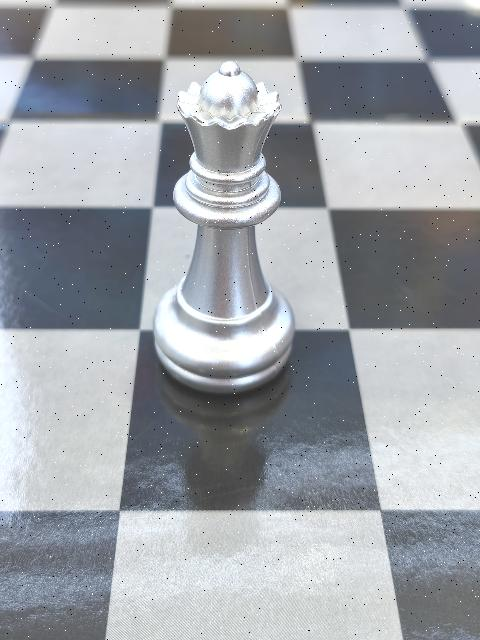white_queen: (156, 58, 291, 386)
